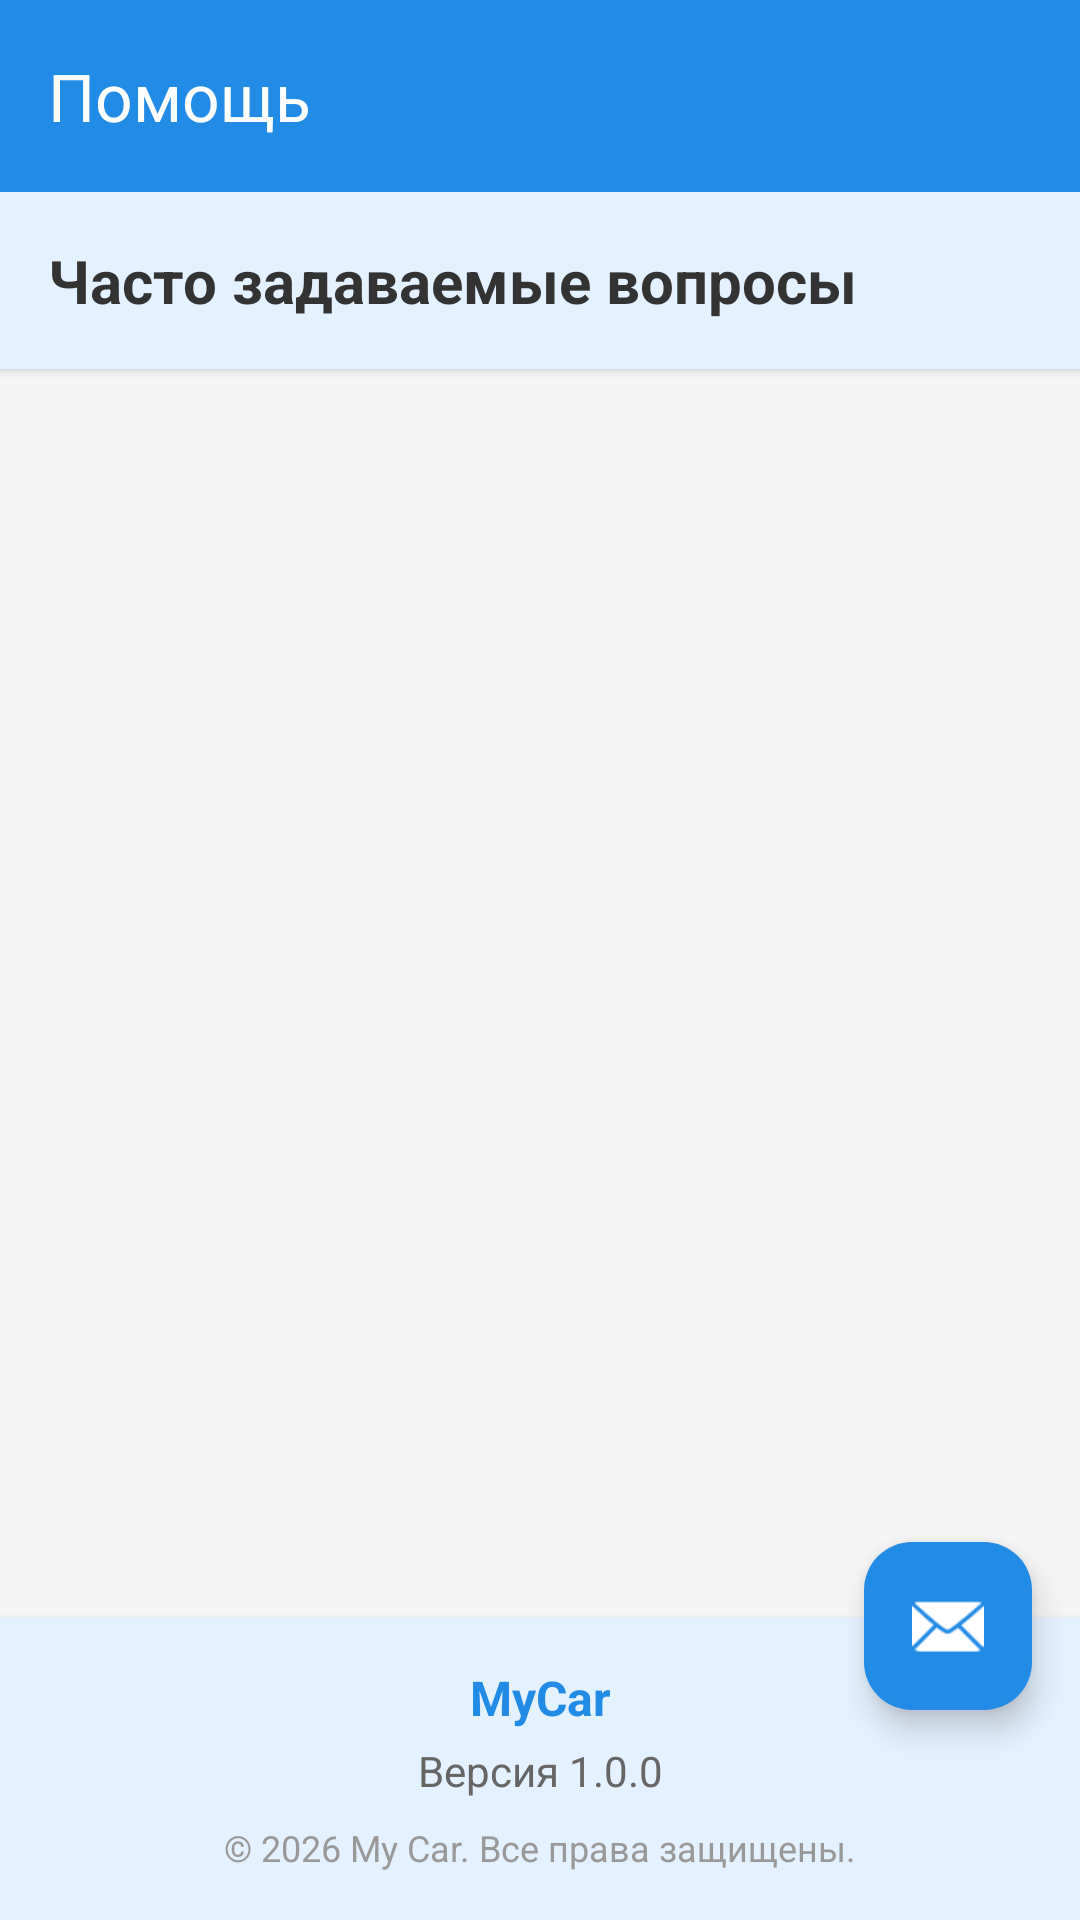

Screen size 1080*1920. Icon name, then its center in pixels as [x,y]:
Связаться с поддержкой: [948,1626]
